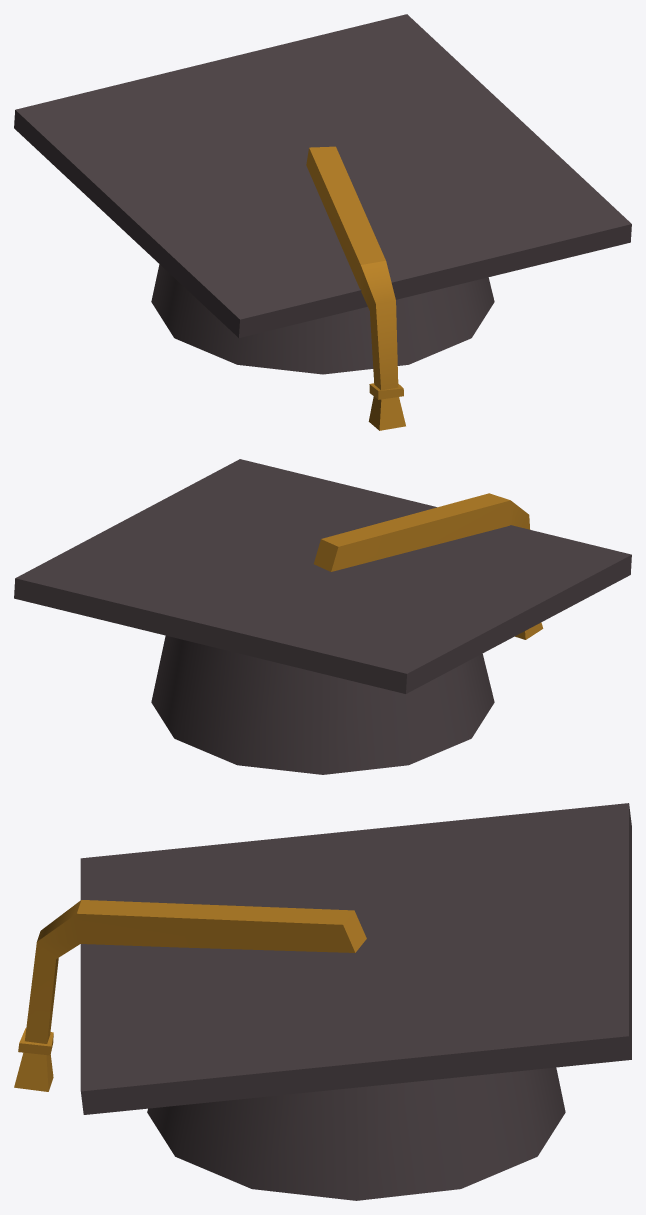
Rendered from Hat_Graduation.fbx.
3 views of the same model, one above another, from view 1: azimuth 30°, elevation 25°; view 2: azimuth 150°, elevation 25°; view 3: azimuth 270°, elevation 25° (orthographic). The views are drawn at different scales.
Visible parts, largest first — view 1: Hat_Graduation1; view 2: Hat_Graduation1; view 3: Hat_Graduation1.
Boxes of the visible parts, x1,y1,x2,y2 form: Hat_Graduation1: (14, 14, 631, 430); Hat_Graduation1: (14, 459, 631, 774); Hat_Graduation1: (14, 803, 631, 1200).
Size of the model in its own units: 1.52 by 0.6234 by 1.7.
